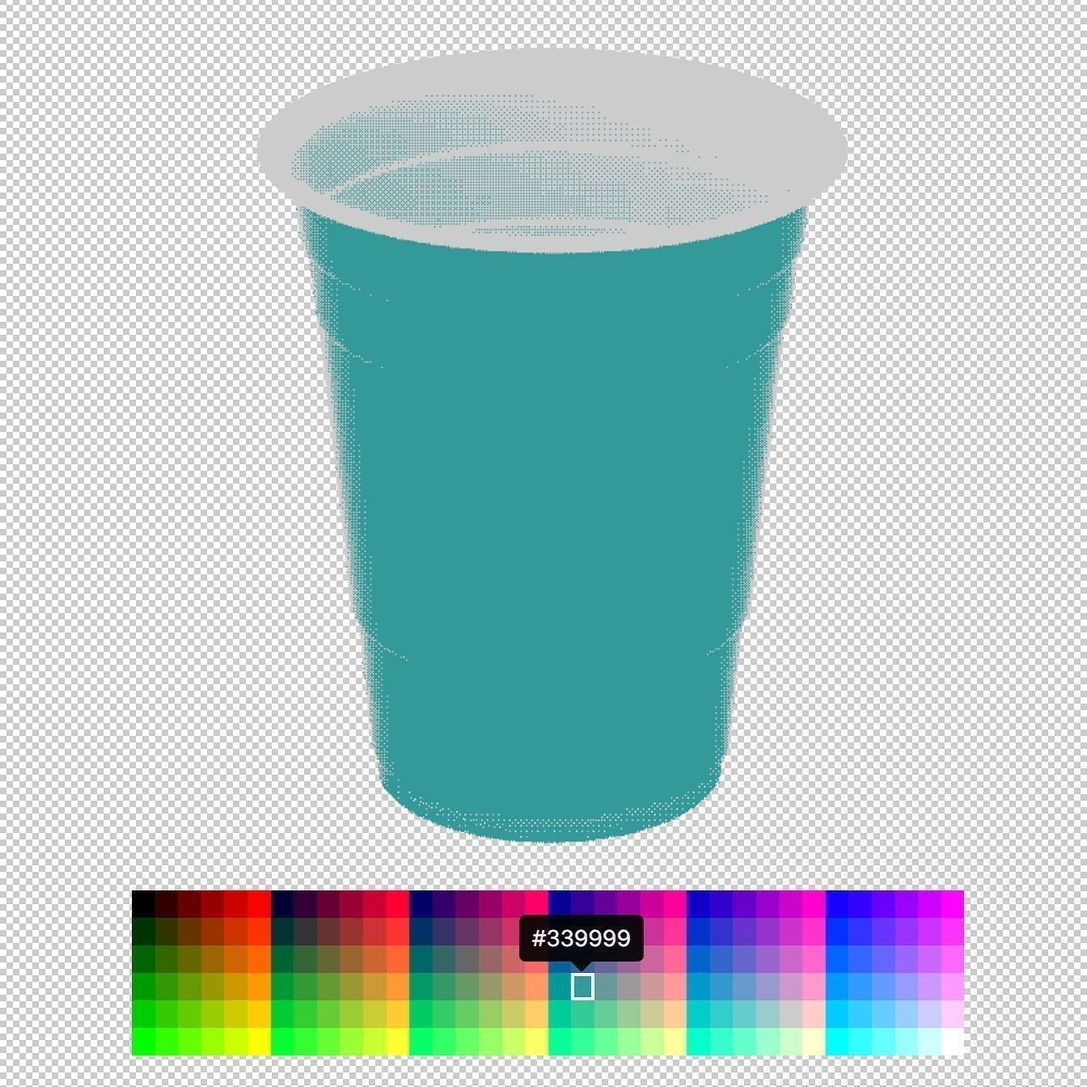cup-disposable: (253, 34, 863, 845)
